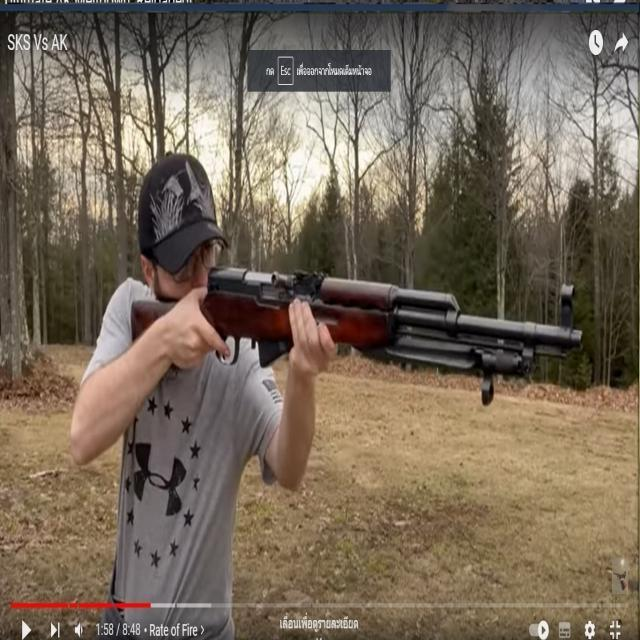ak: (129, 251, 586, 441)
